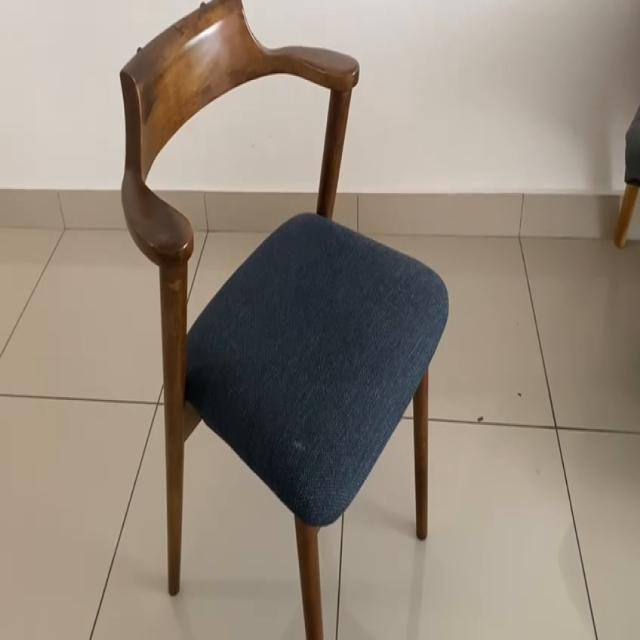Chair: (103, 5, 452, 640)
